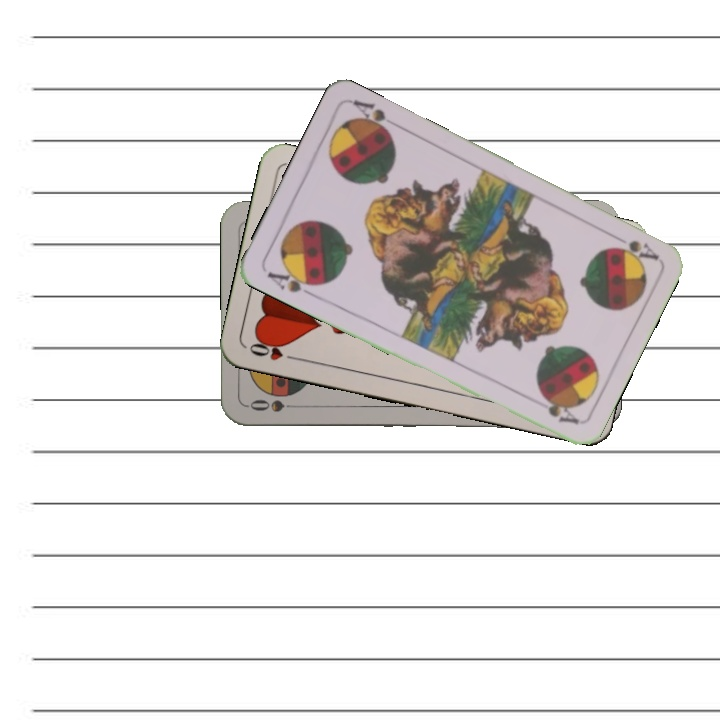HO: (245, 335, 302, 364)
SA: (262, 262, 322, 300), (605, 229, 661, 264)
SO: (246, 395, 305, 415)
